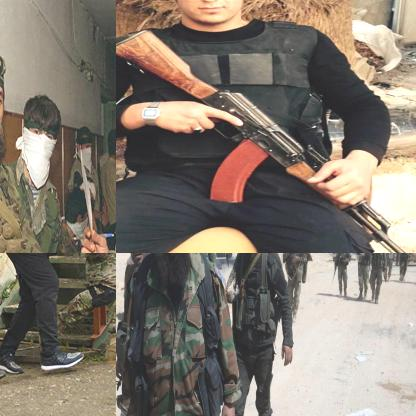rifle: (116, 23, 415, 252)
